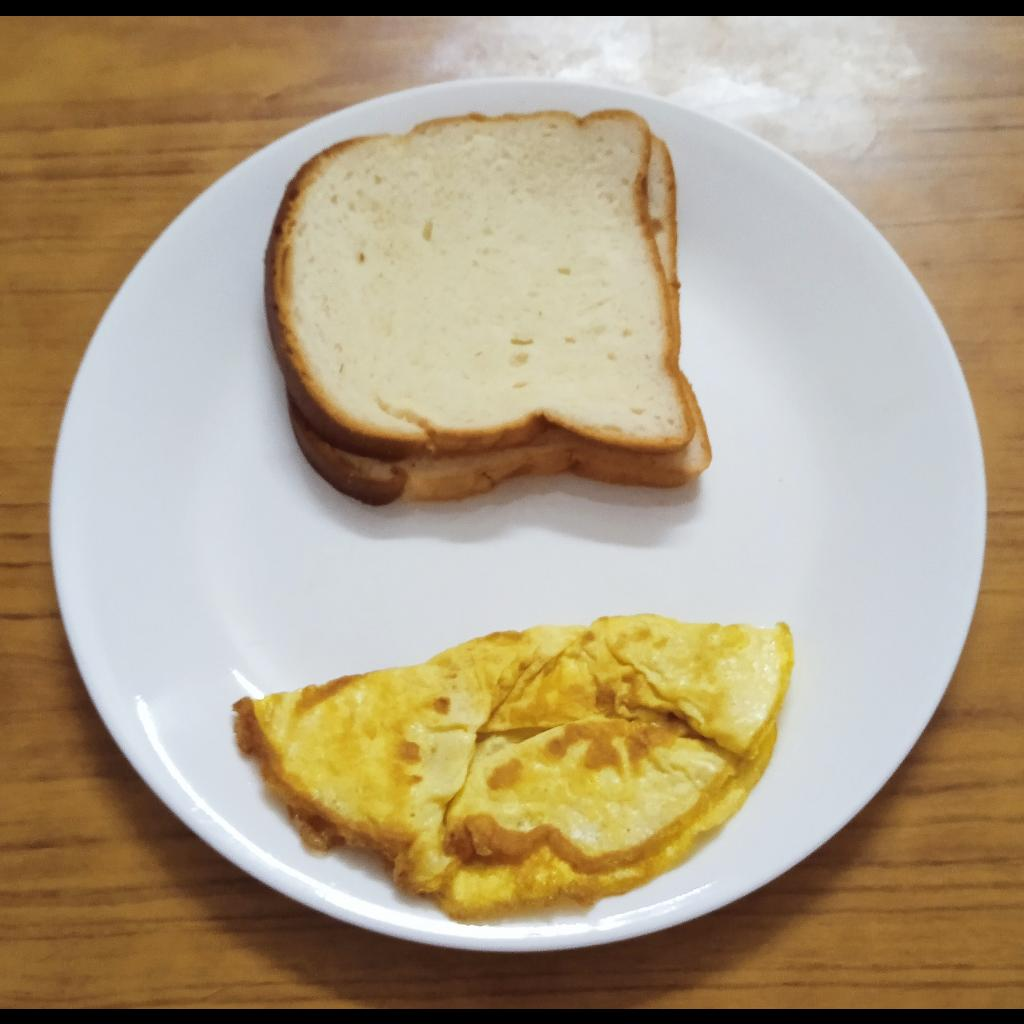bread: (262, 106, 714, 507)
egg-poached: (232, 612, 795, 922)
